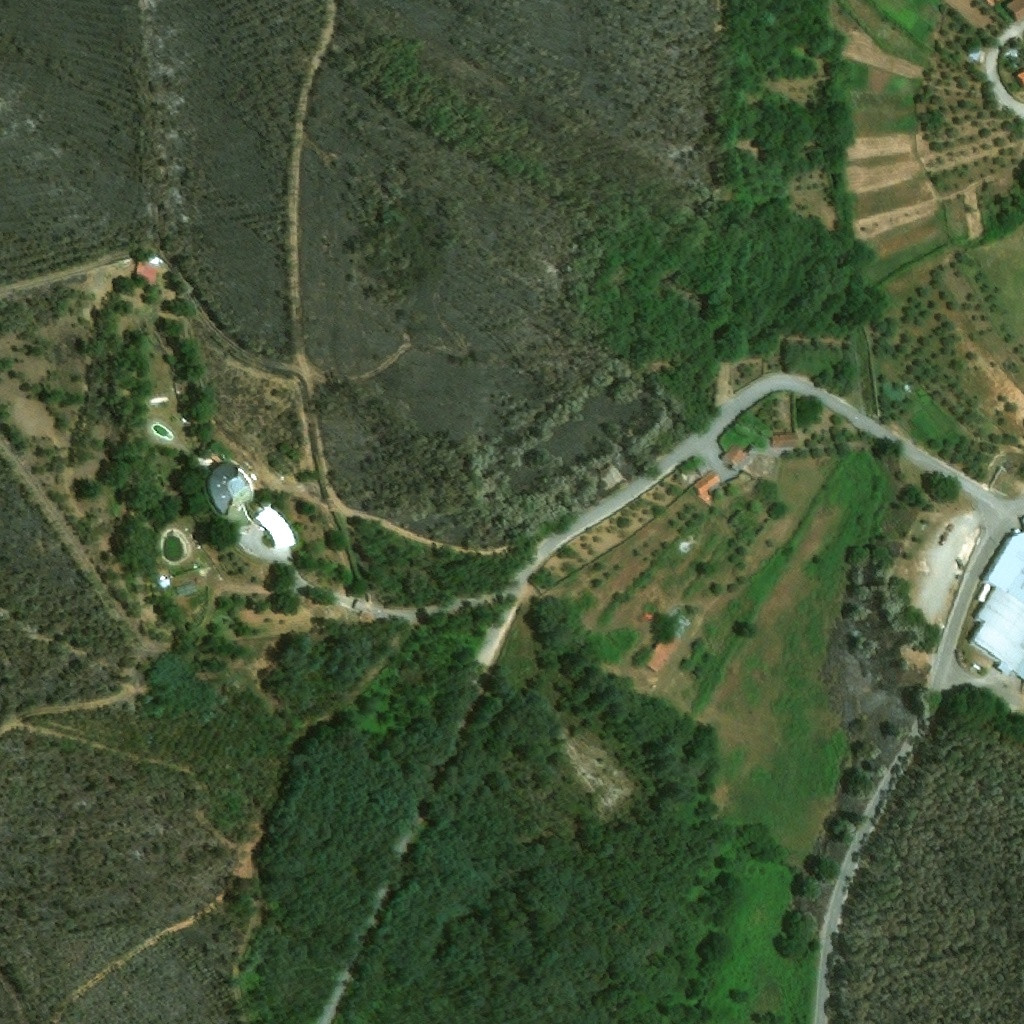0 no-damage: (968, 530, 1023, 680), (641, 612, 691, 674), (207, 462, 245, 516), (256, 506, 295, 549), (594, 460, 630, 492), (157, 567, 207, 590), (133, 253, 164, 289), (694, 471, 721, 506), (722, 444, 747, 467), (770, 432, 799, 449), (965, 45, 984, 65), (1002, 48, 1020, 62), (352, 598, 367, 611), (360, 611, 377, 621)
4 un-classified: (1003, 0, 1023, 21), (986, 0, 1001, 7)
